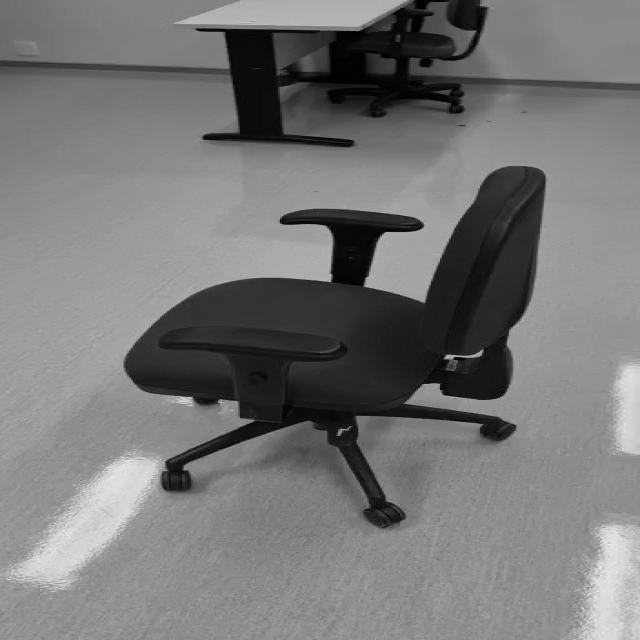cadeira-azul: (124, 166, 546, 527)
